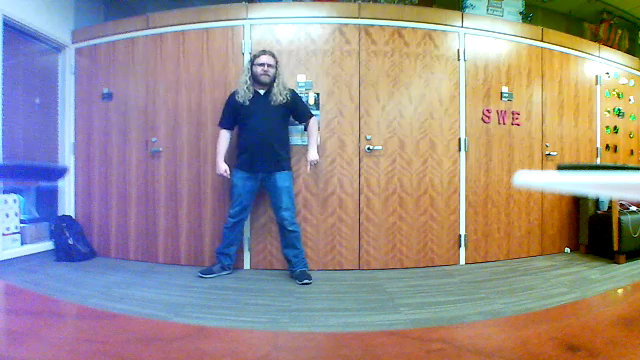down: (302, 143, 331, 186)
